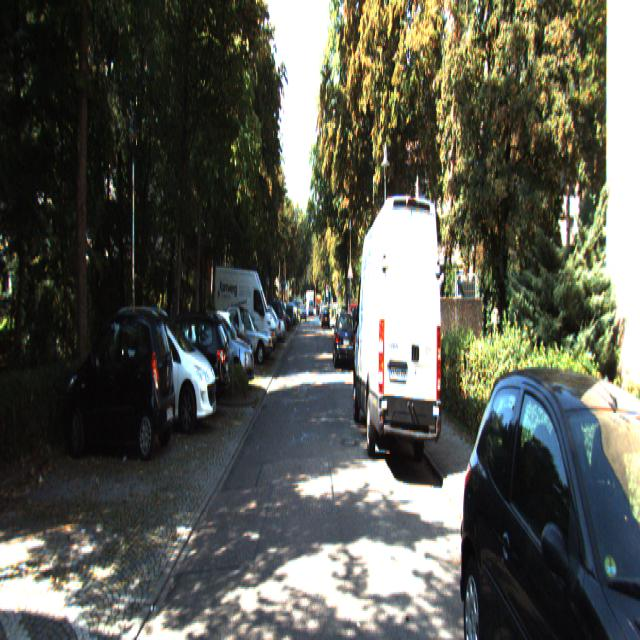Car: (460, 348, 640, 638), (354, 188, 444, 472), (63, 304, 177, 462), (107, 300, 218, 440), (132, 302, 231, 413), (214, 264, 278, 367), (182, 308, 255, 392), (221, 308, 273, 368), (334, 312, 358, 372)
